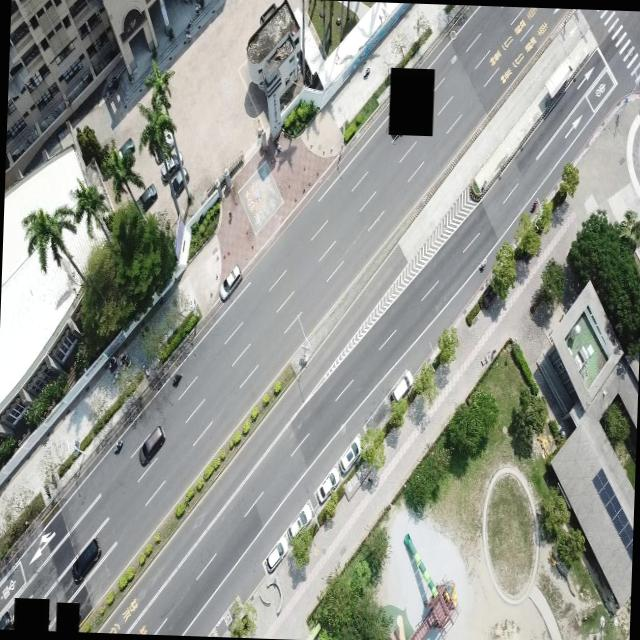car: (71, 536, 101, 584), (286, 498, 314, 542), (336, 432, 361, 476), (138, 422, 164, 463), (315, 464, 339, 505), (264, 535, 288, 572), (389, 368, 414, 403), (220, 262, 242, 300)
